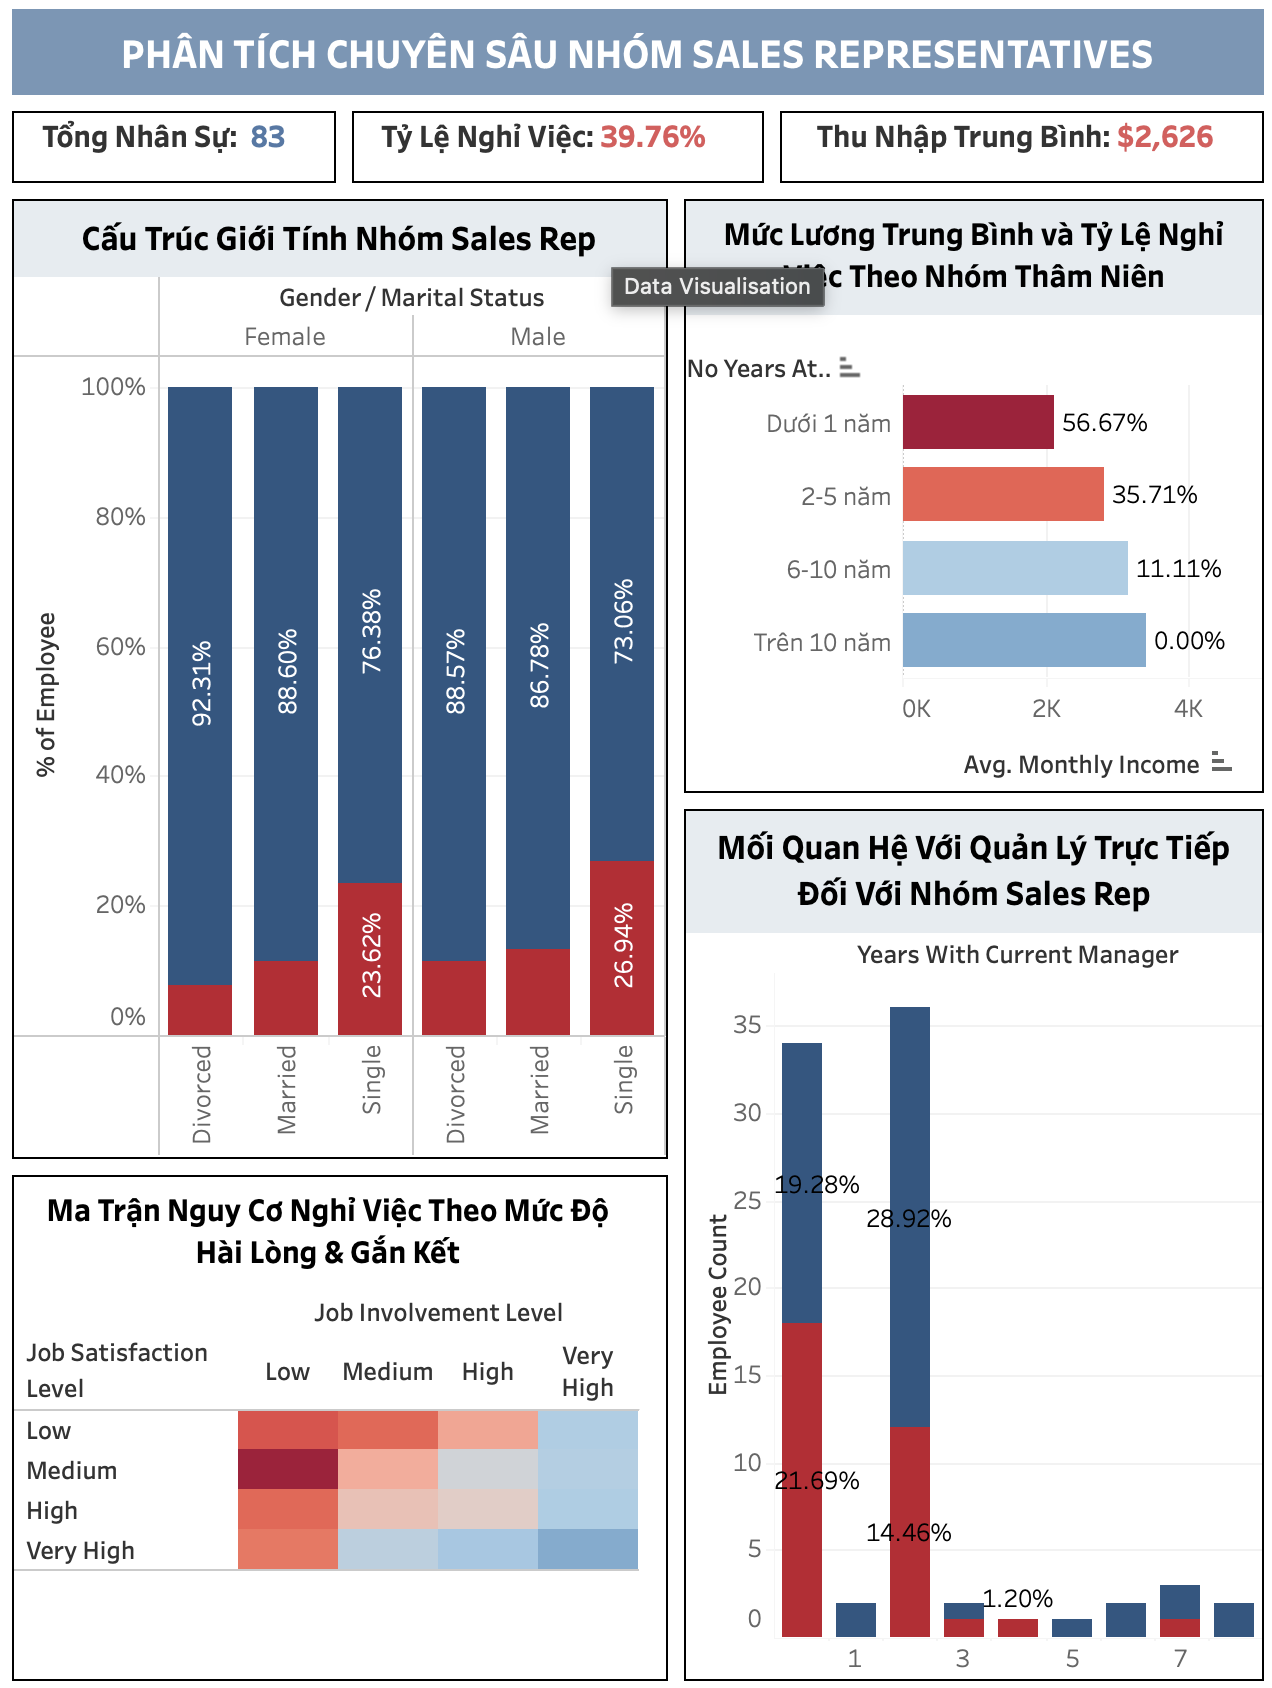

The dashboard page shown, as its layout file describes it:
{"tool":"tableau","page":{"name":"Dashboard 5","canvas":[650,860],"ordinal":4},"visuals":[{"type":"text","box":[8,9.7,634,50.4]},{"type":"worksheet","title":"NoSales","mark":"Automatic","box":[8,60.1,169.9,43.9]},{"type":"worksheet","title":"SalesAttritionRate","mark":"Automatic","box":[178,60.1,214,43.9]},{"type":"worksheet","title":"AvgIncome","mark":"Automatic","box":[391.9,60.1,250.1,43.9]},{"type":"worksheet","title":"Sheet 32","mark":"Automatic","cols":["Gender","MaritalStatus"],"box":[8,104,336,486.2]},{"type":"worksheet","title":"Sheet 31","mark":"Automatic","cols":["MonthlyIncome"],"box":[344,104,298,303.6]},{"type":"worksheet","title":"Sheet 33","mark":"Automatic","rows":["EmployeeNumber"],"cols":["YearsWithCurrManager"],"box":[344,407.6,298,442.7]},{"type":"worksheet","title":"Sheet 34","mark":"Automatic","rows":["JobSatisfaction_label"],"cols":["JobInvolvement_Label"],"box":[8,590.3,336,260.1]}]}

Visuals, with their boxes in screenshot pixels (x1, y1, x2, y2), scaled from the page's 650x860 canvas onto the 1272x1688 screenshot:
text: x1=16 y1=19 x2=1256 y2=118
"NoSales" worksheet: x1=16 y1=118 x2=348 y2=204
"SalesAttritionRate" worksheet: x1=348 y1=118 x2=767 y2=204
"AvgIncome" worksheet: x1=767 y1=118 x2=1256 y2=204
"Sheet 32" worksheet: x1=16 y1=204 x2=673 y2=1158
"Sheet 31" worksheet: x1=673 y1=204 x2=1256 y2=800
"Sheet 33" worksheet: x1=673 y1=800 x2=1256 y2=1669
"Sheet 34" worksheet: x1=16 y1=1159 x2=673 y2=1669
